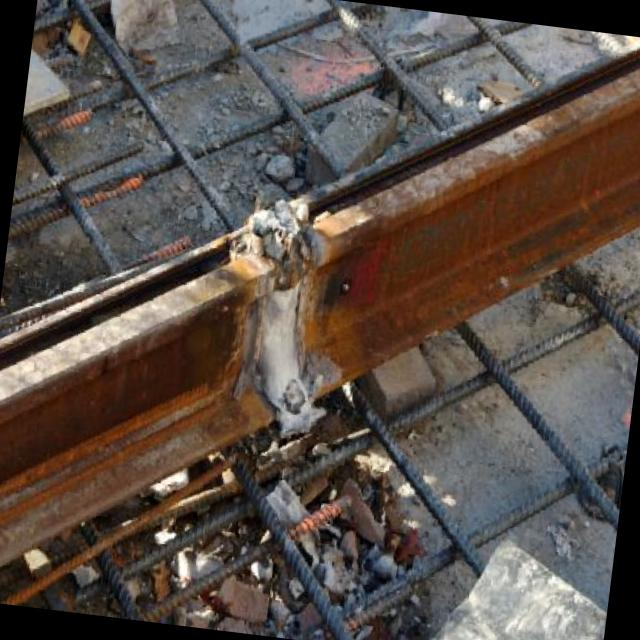defective: (0, 112, 640, 558)
